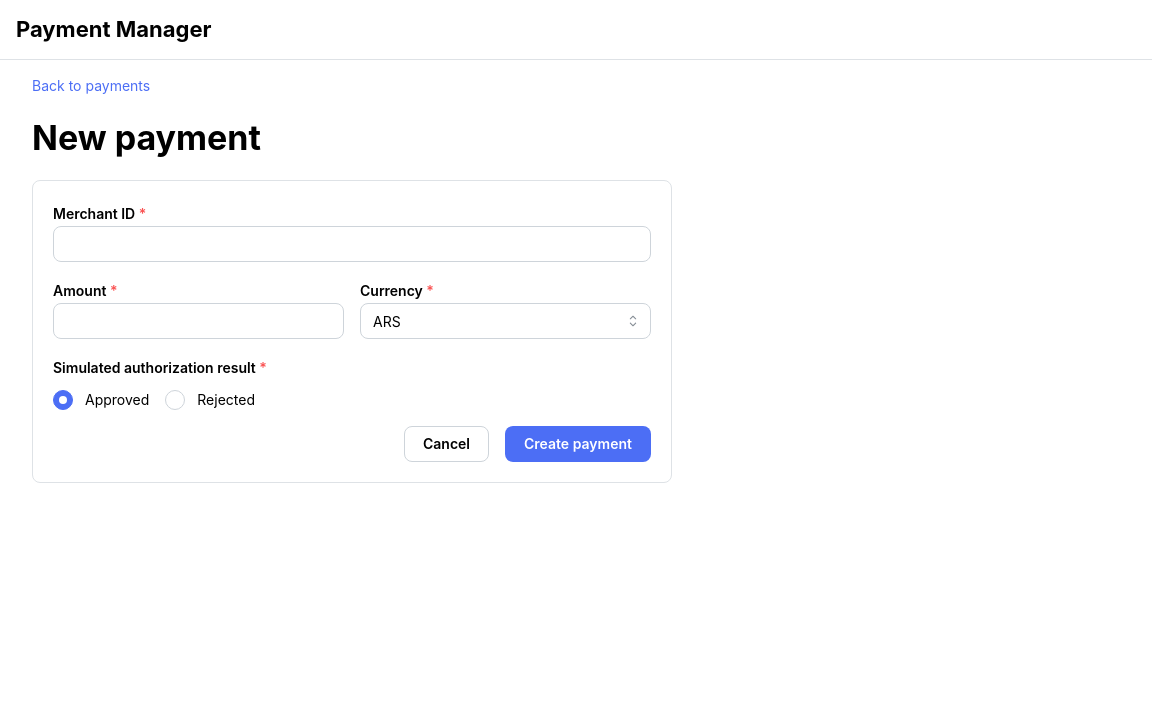
Test: CreatePaymentPage › given empty required fields, when the form is submitted, then shows validation errors and sends no request
Click the button "Create payment". click: (578, 444)
box: [505,426,651,462]
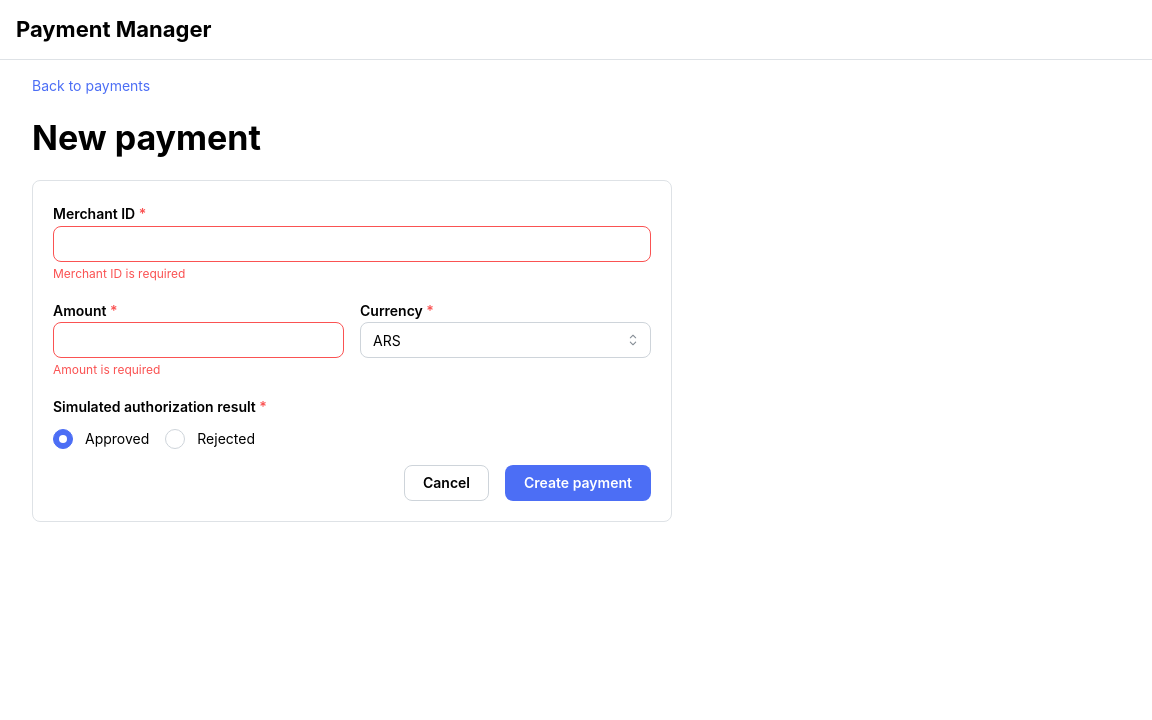
Now the text "Merchant ID is required" is shown, box [53,266,185,281]
Now the text "Amount is required" is shown, box [53,362,160,378]
